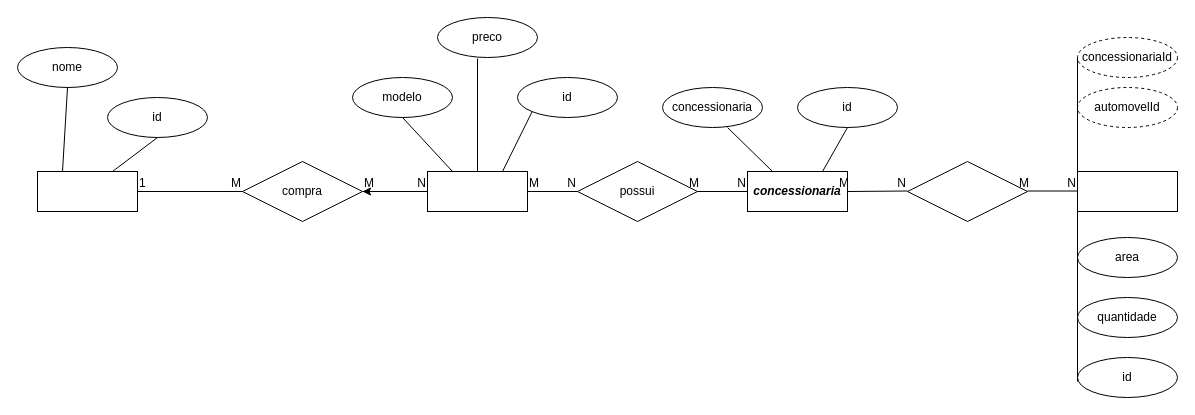
Some shapes in this 1195 by 415 pixel diagram are drawn without their labels. Here are the shapes that lost their labels. From the top down, the box of each, then its label:
(36, 170, 138, 212): cliente
(426, 170, 528, 212): veiculo
(906, 160, 1028, 222): armazena
(1076, 170, 1178, 212): alocacao
